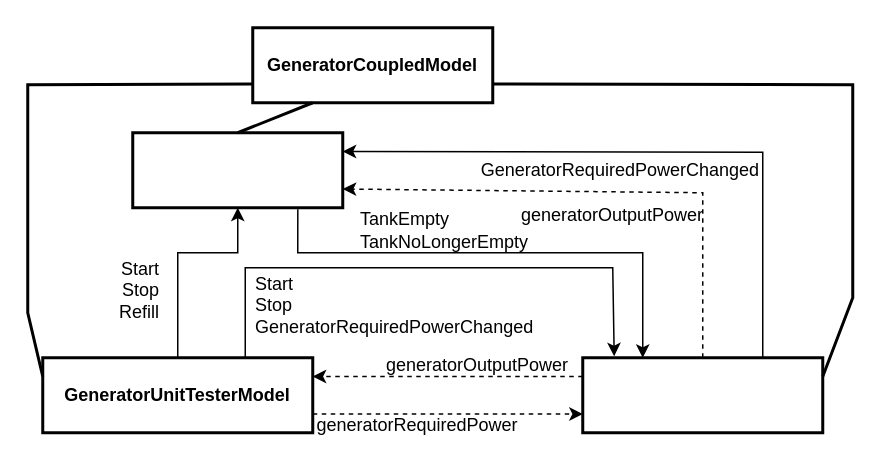
This 881x473 diagram has some shape labels left out. Here are the shapes that lost their labels. From the top down, the box of each, then its label:
(130, 130, 344, 208): GeneratorFuelModel
(580, 356, 824, 434): GeneratorPowerModel
